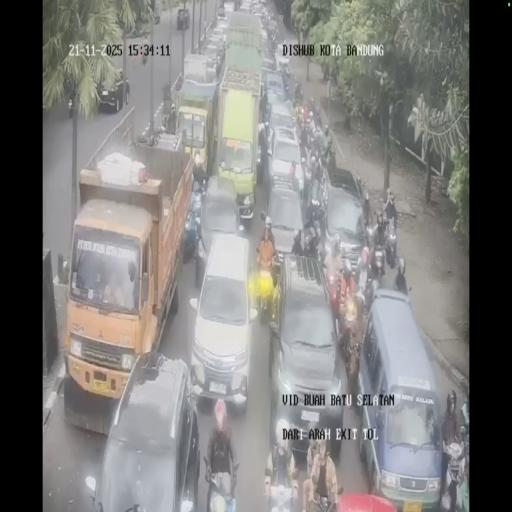car: (356, 290, 441, 504), (89, 352, 200, 507), (267, 254, 344, 456), (195, 174, 241, 283), (322, 172, 368, 272), (263, 179, 305, 267), (95, 73, 130, 114), (203, 29, 227, 74), (268, 100, 296, 138), (275, 48, 291, 74), (260, 55, 276, 79), (249, 0, 263, 17), (223, 0, 235, 15), (240, 0, 252, 13)
motorcycle: (440, 436, 468, 510), (252, 258, 278, 324), (326, 275, 342, 328), (190, 158, 208, 200), (383, 219, 398, 267), (362, 272, 377, 316), (372, 240, 386, 278), (302, 164, 313, 206), (323, 139, 335, 167), (266, 33, 278, 60), (312, 100, 322, 128), (294, 79, 303, 103)
truck: (174, 78, 218, 182), (221, 8, 264, 79)
